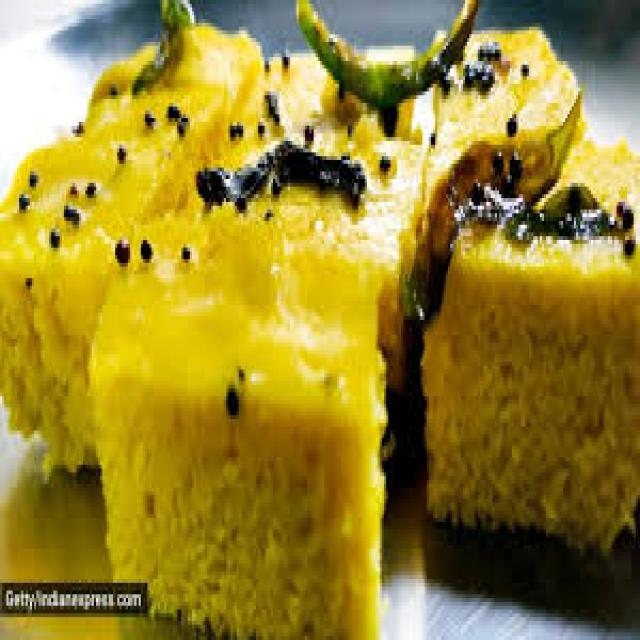DHOKLA: (94, 182, 385, 636), (423, 141, 638, 558), (2, 99, 210, 470), (239, 128, 419, 388), (93, 10, 262, 181), (433, 26, 573, 146), (267, 38, 416, 140)
